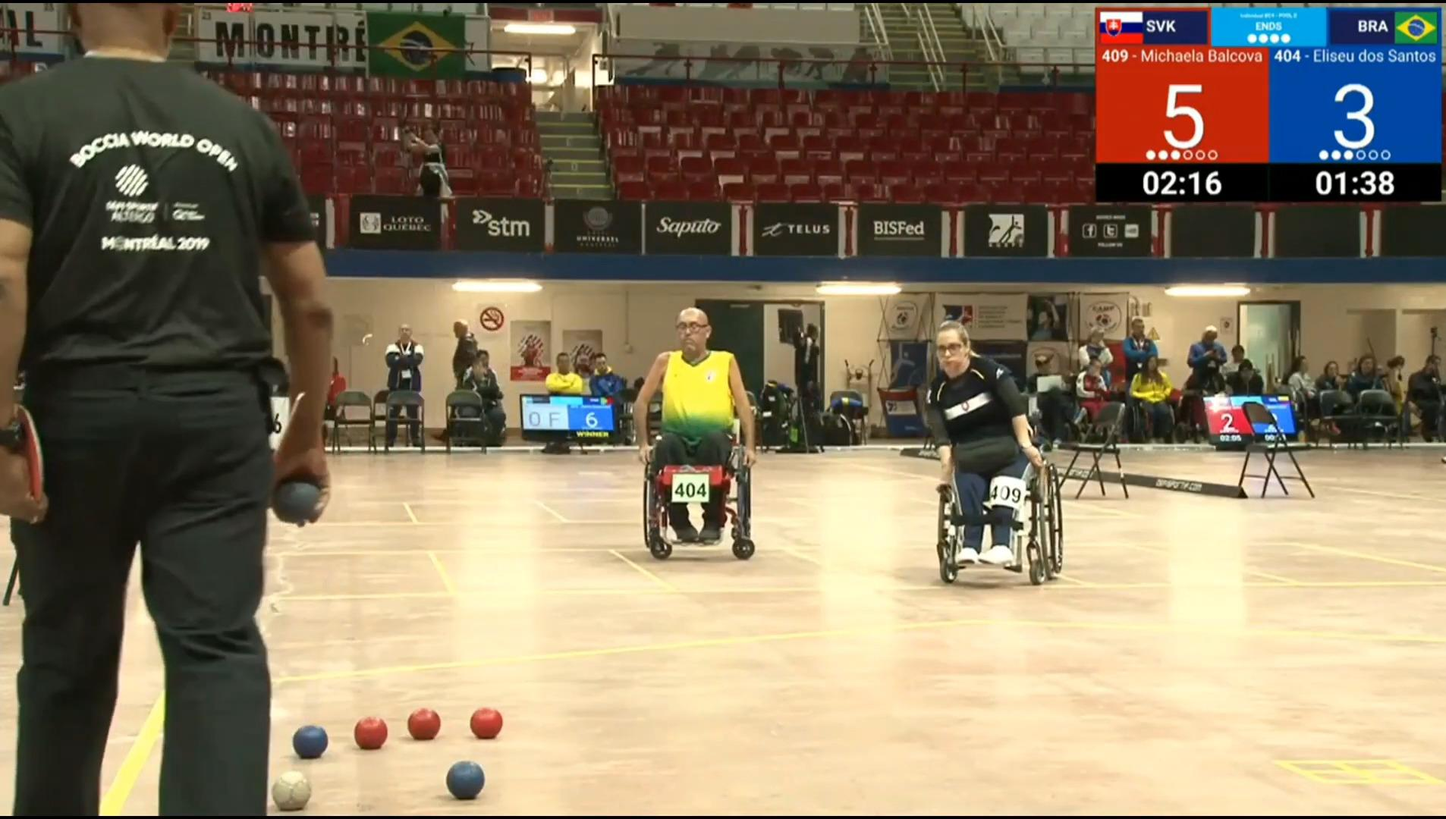blue_ball: (443, 757, 489, 803), (290, 722, 329, 760)
red_ball: (351, 714, 390, 753), (404, 706, 442, 743), (468, 705, 504, 742)
white_ball: (271, 770, 315, 812)
